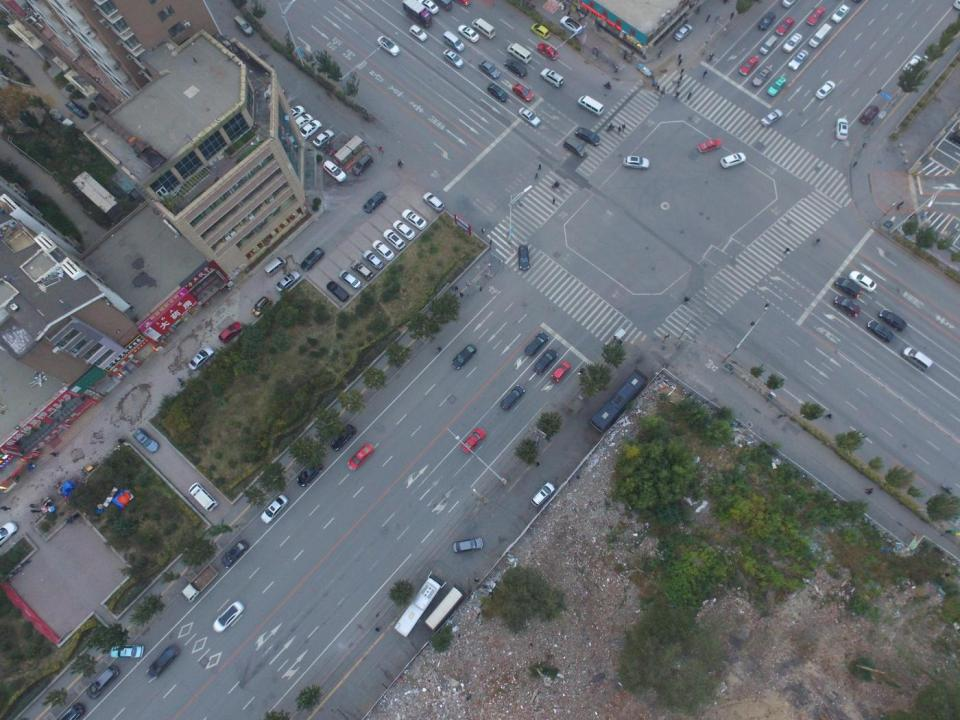bus: (394, 574, 446, 640), (425, 583, 466, 633)
car: (145, 644, 180, 680), (261, 495, 288, 527), (221, 540, 251, 568), (296, 461, 324, 489), (215, 602, 241, 632), (331, 423, 357, 451), (347, 443, 372, 472), (132, 428, 159, 453), (850, 268, 875, 294), (867, 319, 893, 343), (525, 331, 551, 355), (880, 308, 908, 330), (189, 346, 214, 370), (834, 276, 860, 299), (534, 351, 557, 377), (300, 248, 324, 272), (275, 271, 301, 293), (452, 345, 474, 369), (502, 383, 522, 409), (833, 298, 859, 318), (401, 210, 427, 230), (393, 219, 416, 241), (327, 281, 350, 303), (383, 228, 406, 250), (363, 191, 386, 213), (751, 66, 773, 89), (377, 36, 401, 57), (349, 260, 374, 280), (298, 120, 323, 140), (576, 127, 602, 146), (463, 429, 485, 451), (219, 321, 241, 343), (372, 239, 395, 260), (58, 702, 86, 719), (453, 538, 482, 554), (423, 192, 445, 213), (518, 107, 540, 128), (338, 270, 361, 290), (478, 60, 501, 80), (559, 15, 583, 34), (0, 521, 19, 545), (110, 645, 144, 658), (512, 82, 534, 102), (486, 84, 509, 103), (444, 49, 464, 70), (766, 76, 786, 97), (65, 100, 87, 119), (783, 32, 802, 54), (505, 59, 528, 77), (762, 108, 782, 128), (363, 250, 384, 269), (456, 25, 479, 42), (776, 16, 795, 36), (831, 4, 850, 24), (790, 50, 807, 72), (537, 43, 559, 60), (624, 156, 650, 170), (739, 56, 758, 75), (806, 7, 825, 26), (313, 130, 333, 148), (530, 23, 551, 40), (699, 137, 721, 153), (551, 363, 569, 382), (720, 153, 744, 167), (288, 105, 304, 126), (817, 80, 834, 99), (254, 296, 270, 316), (517, 246, 530, 270), (674, 23, 691, 41), (904, 54, 922, 71), (409, 24, 427, 40), (836, 116, 849, 138), (420, 0, 439, 15), (759, 12, 774, 31), (294, 115, 314, 128), (782, 0, 793, 8)
truck: (586, 370, 647, 434), (181, 565, 218, 602), (401, 0, 433, 25)
van: (86, 665, 118, 698), (188, 481, 219, 511), (901, 344, 933, 372), (532, 481, 556, 509), (576, 95, 604, 116), (810, 23, 832, 48), (323, 160, 347, 182), (564, 135, 586, 158), (264, 256, 288, 277), (442, 31, 466, 52), (472, 18, 496, 39), (540, 68, 564, 88), (508, 43, 532, 63), (233, 16, 255, 36), (352, 153, 372, 175), (860, 105, 878, 125), (760, 34, 777, 54), (439, 0, 452, 12)
